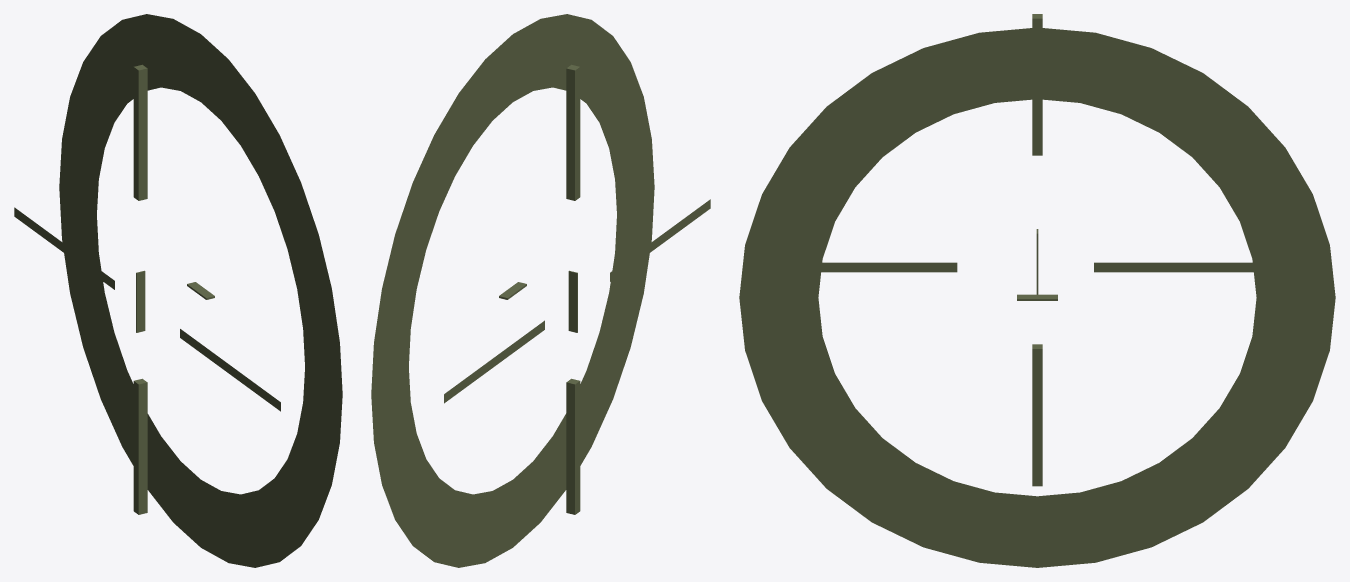
Rendered from iron sight.fbx.
The picture shows the model from 3 angles, left to right: view 1: azimuth 30°, elevation 25°; view 2: azimuth 150°, elevation 25°; view 3: azimuth 270°, elevation 25°; orthographic projection. The views are drawn at different scales.
Parts seen in each view (by area): view 1: Circle, Cube.001, Cube.002, Plane.001, Plane, Cube.003; view 2: Circle, Cube.001, Cube.002, Plane, Plane.001, Cube.003; view 3: Circle, Plane.001, Cube.002, Plane, Cube.001.
Part boxes in pixels (left/top/right/bottom): Circle: left=59, top=14, right=342, bottom=567; Cube.001: left=133, top=64, right=147, bottom=200; Cube.002: left=133, top=378, right=147, bottom=514; Plane.001: left=14, top=207, right=114, bottom=289; Plane: left=180, top=329, right=280, bottom=411; Cube.003: left=136, top=270, right=145, bottom=332; Circle: left=371, top=14, right=654, bottom=567; Cube.001: left=566, top=64, right=580, bottom=200; Cube.002: left=566, top=378, right=580, bottom=514; Plane: left=610, top=199, right=710, bottom=281; Plane.001: left=444, top=320, right=544, bottom=403; Cube.003: left=568, top=270, right=577, bottom=332; Circle: left=739, top=27, right=1335, bottom=567; Plane.001: left=1094, top=262, right=1253, bottom=272; Cube.002: left=1032, top=344, right=1042, bottom=486; Plane: left=821, top=262, right=957, bottom=272; Cube.001: left=1032, top=14, right=1042, bottom=155.
Size of the model in its own units: 123 by 874 by 874.
